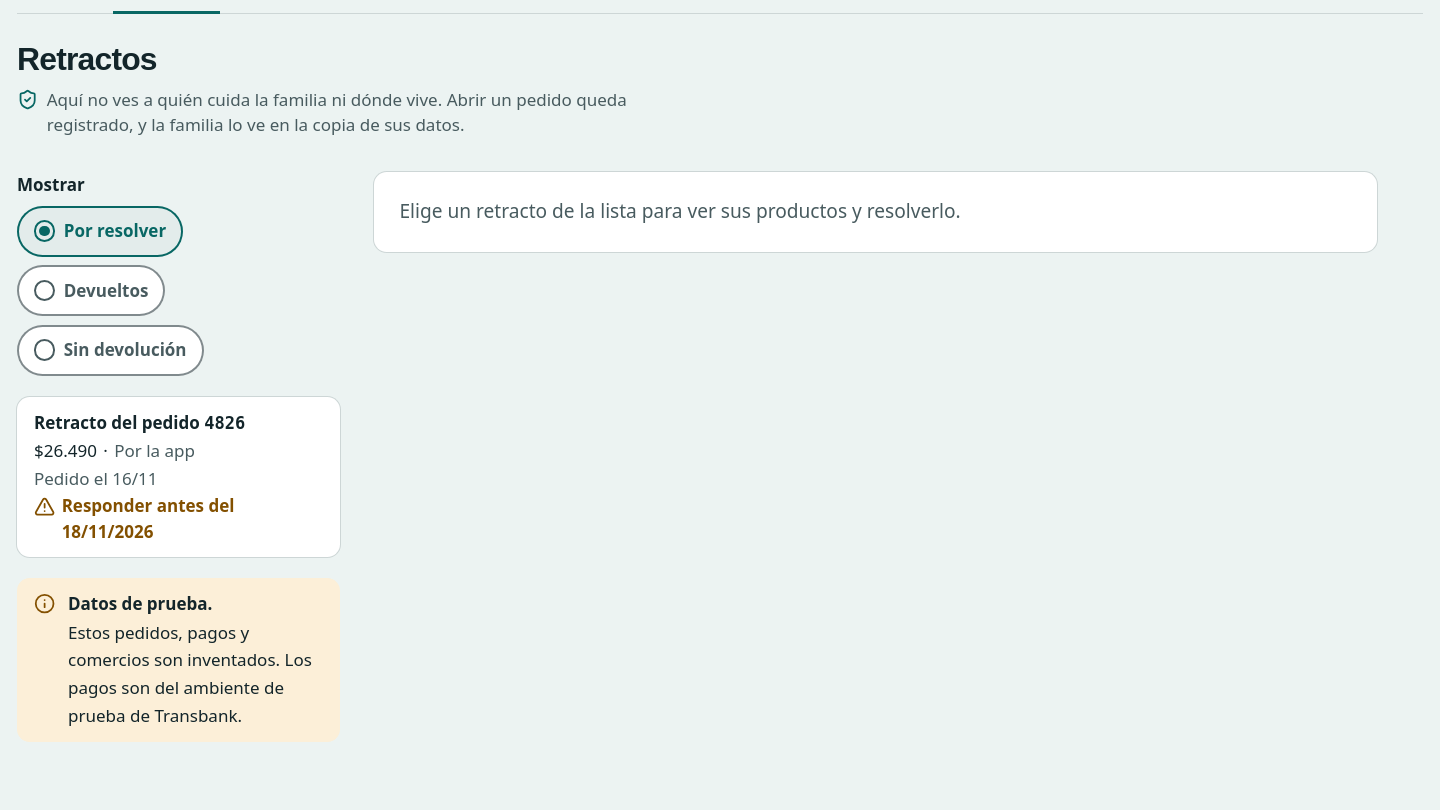
Test: Retractos › «Devolver»: el diálogo con el monto de la API; después, «Devolviste $26.490…» con el foco
The image size is (1440, 810).
(page scrolled)
Click the button with aria-label "Retracto del pedido 4826," at {"x": 117, "y": 422}, box [17, 397, 340, 557]
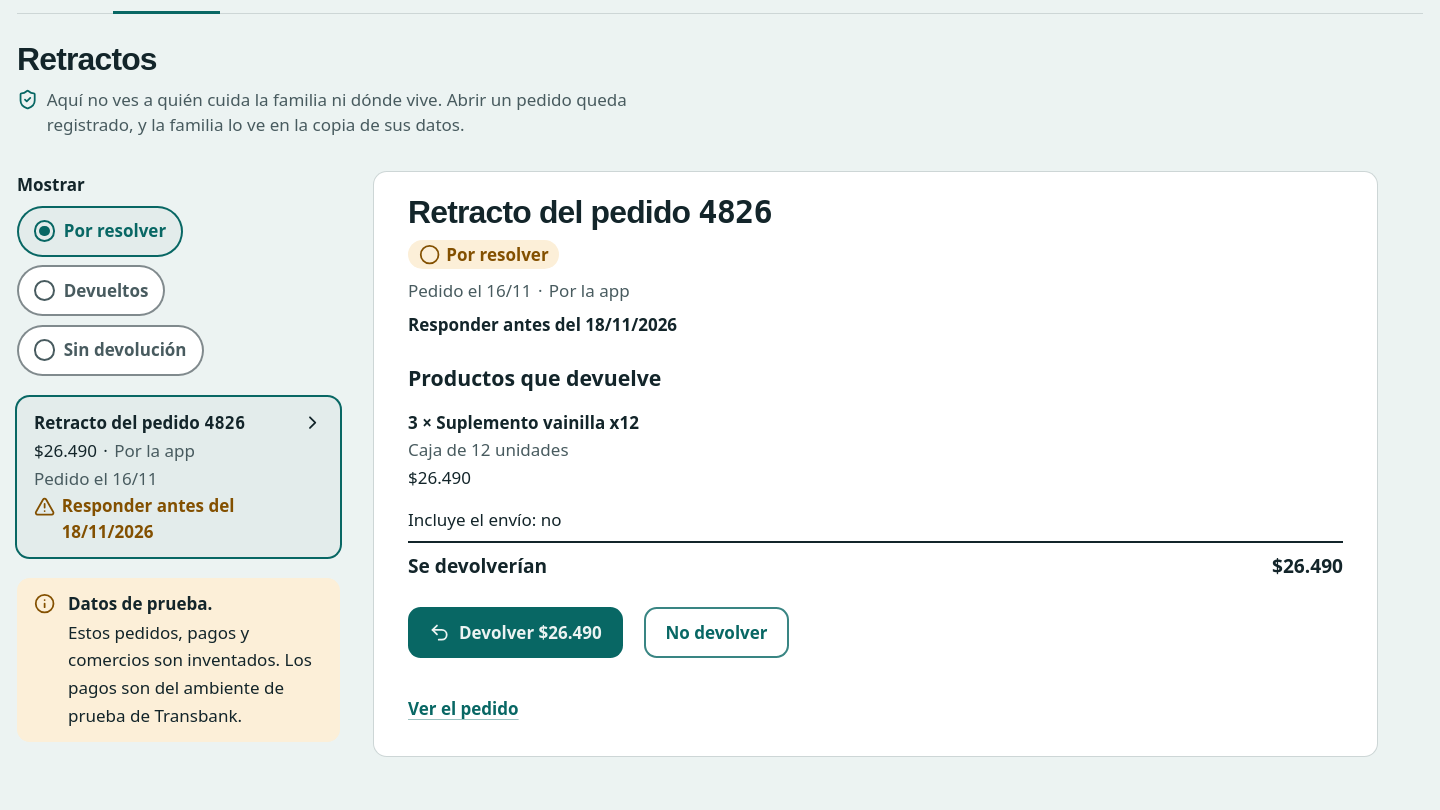
expect the heading "Retracto del pedido 4826" is shown: met, box [408, 193, 772, 231]
expect the heading "Productos que devuelve" is shown: met, box [408, 363, 661, 392]
expect the text "Incluye el envío: no" is shown: met, box [408, 508, 562, 531]
Click the button "Devolver $26.490" at {"x": 516, "y": 632}, box [408, 607, 623, 658]
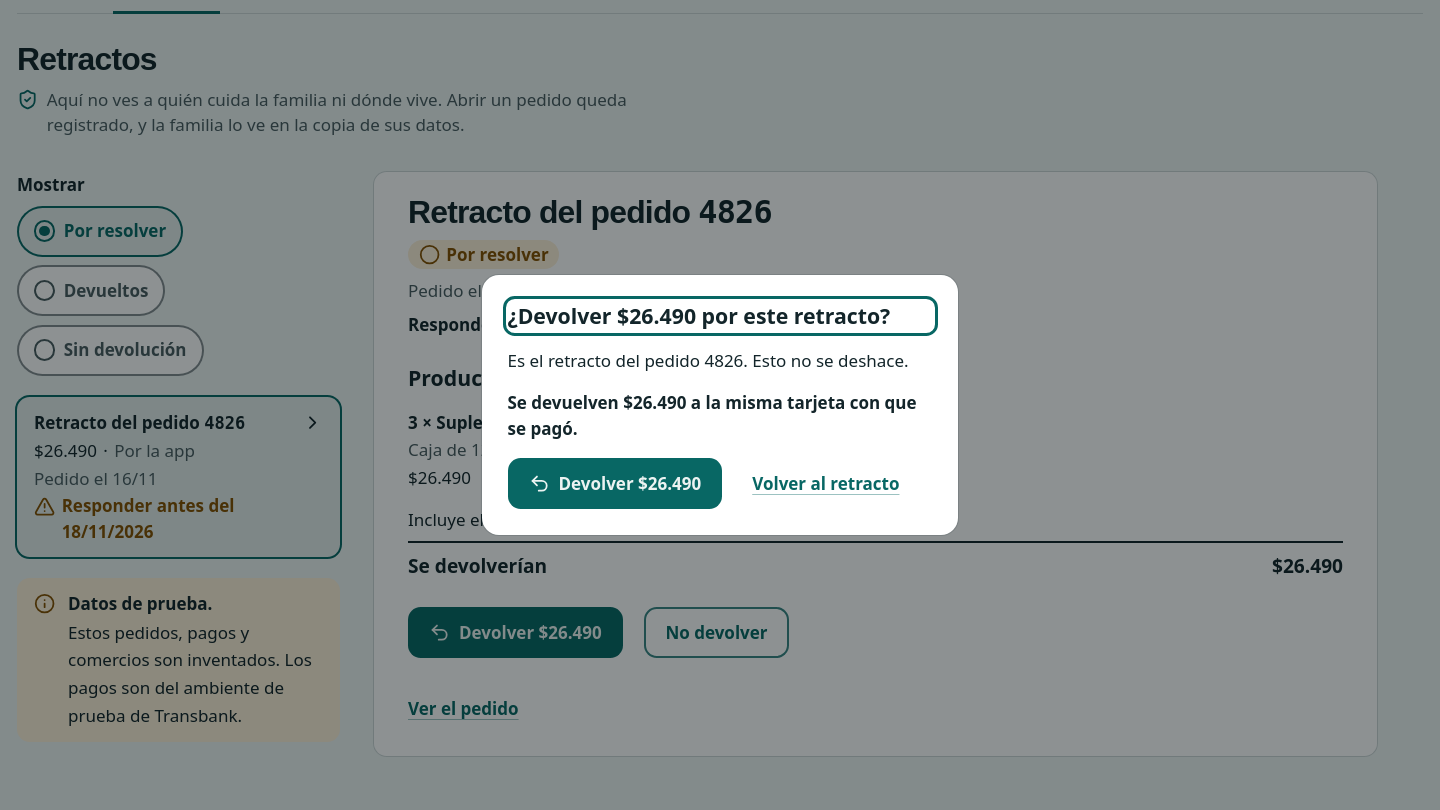
expect the text "Es el retracto del pedido 4826. Esto no se deshace." is shown: met, box [508, 348, 932, 373]
Click the button "Devolver $26.490" at {"x": 615, "y": 484}, box [508, 458, 722, 509]
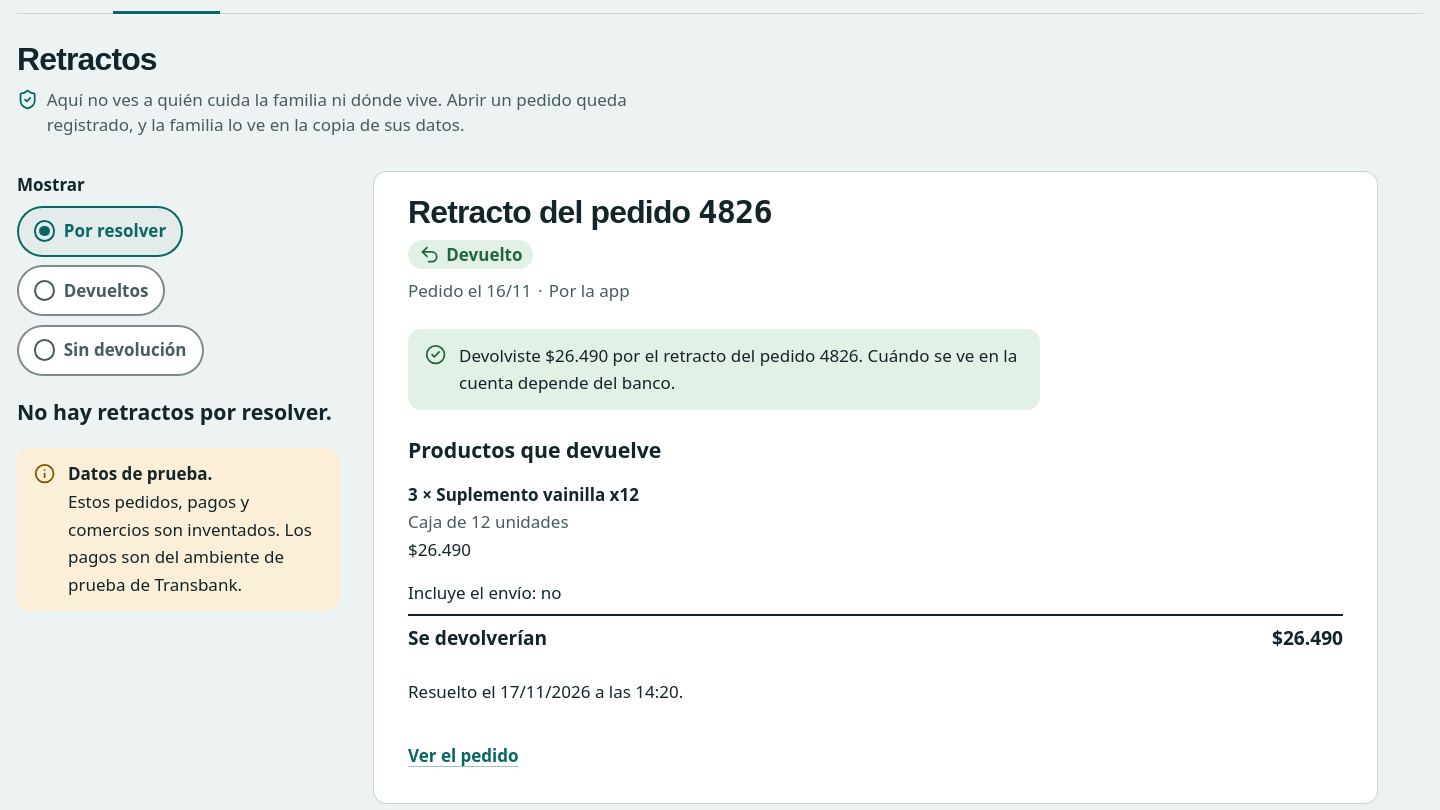
expect the text "Devuelto" is shown: met, box [446, 242, 523, 267]
